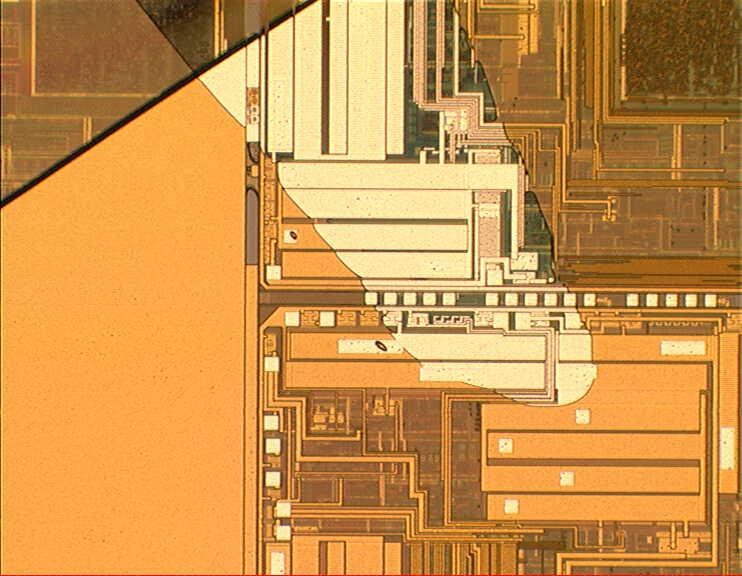COATING BAD: (2, 1, 597, 409)
